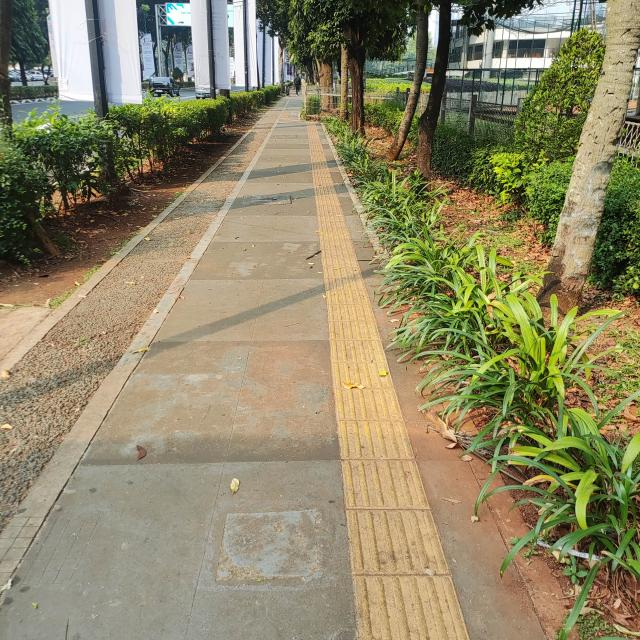lurus: (312, 153, 424, 640)
